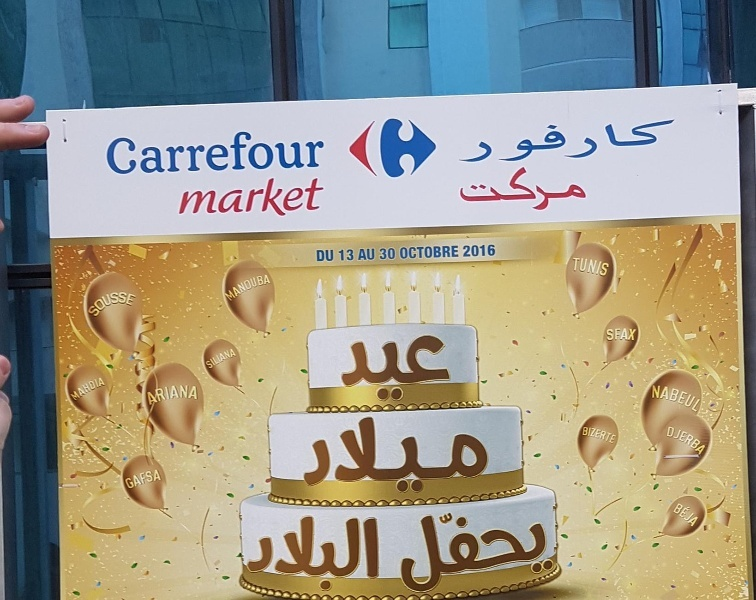text: (401, 512, 416, 598), (417, 512, 432, 598), (433, 512, 448, 598), (449, 512, 464, 598), (465, 512, 480, 598), (481, 512, 496, 598), (497, 512, 512, 598), (513, 512, 528, 598), (529, 512, 544, 598), (545, 512, 560, 598), (257, 513, 272, 597), (273, 513, 288, 597), (289, 513, 304, 597), (305, 513, 320, 597), (321, 513, 336, 597), (337, 513, 352, 597), (353, 513, 368, 597), (321, 412, 336, 495), (337, 412, 352, 495), (353, 412, 368, 495), (369, 412, 384, 495), (385, 412, 400, 495), (401, 412, 416, 495), (417, 412, 432, 495), (433, 412, 448, 495), (449, 412, 464, 495), (465, 412, 480, 495), (369, 513, 382, 597), (307, 412, 320, 495), (353, 334, 368, 403), (369, 334, 384, 403), (385, 334, 400, 403), (401, 334, 416, 403), (417, 334, 432, 403), (433, 334, 448, 403), (244, 513, 256, 597), (481, 412, 493, 495), (340, 334, 352, 403), (465, 116, 480, 163), (481, 116, 496, 163), (497, 116, 512, 163), (513, 116, 528, 163), (529, 116, 544, 163), (545, 116, 560, 163), (561, 116, 576, 163), (577, 116, 592, 163), (593, 116, 608, 163), (609, 116, 624, 163), (625, 116, 640, 163), (641, 116, 656, 163), (657, 116, 672, 163), (465, 165, 480, 212), (481, 165, 496, 212), (497, 165, 512, 212), (513, 165, 528, 212), (529, 165, 544, 212), (545, 165, 560, 212), (561, 165, 576, 212), (113, 131, 128, 177), (129, 131, 144, 177), (145, 131, 160, 177), (161, 131, 176, 177), (177, 131, 192, 177), (193, 131, 208, 177), (209, 131, 224, 177), (225, 131, 240, 177), (241, 131, 256, 177), (257, 131, 272, 177), (273, 131, 288, 177), (289, 131, 304, 177), (305, 131, 320, 177), (193, 175, 208, 219), (209, 175, 224, 219), (225, 175, 240, 219), (241, 175, 256, 219), (257, 175, 272, 219), (273, 175, 288, 219), (289, 175, 304, 219), (305, 175, 320, 219), (577, 165, 589, 212), (81, 283, 96, 320), (97, 283, 112, 320), (113, 283, 128, 320), (673, 422, 688, 457), (689, 422, 704, 457), (225, 270, 240, 305), (241, 270, 256, 305), (257, 270, 272, 305), (657, 383, 672, 413), (673, 383, 688, 413), (182, 175, 192, 219), (145, 381, 160, 410), (161, 381, 176, 410), (177, 381, 192, 410), (689, 383, 703, 413), (81, 375, 96, 403), (209, 346, 224, 373), (225, 346, 240, 373), (577, 255, 592, 281), (593, 255, 608, 281), (689, 502, 703, 529), (129, 466, 144, 491), (145, 466, 160, 491), (67, 375, 80, 403), (457, 116, 464, 163), (105, 131, 112, 177), (97, 375, 108, 403), (593, 425, 608, 445), (129, 283, 137, 320), (678, 502, 688, 529), (401, 245, 416, 261), (417, 245, 432, 261), (433, 245, 448, 261), (481, 244, 497, 259), (321, 131, 326, 177), (465, 244, 480, 259), (609, 328, 624, 343), (321, 175, 326, 219), (582, 425, 592, 445), (321, 249, 335, 263), (339, 249, 352, 264), (625, 328, 638, 343), (385, 246, 397, 261), (609, 425, 618, 445), (650, 383, 656, 413), (398, 512, 400, 598), (449, 245, 459, 261), (357, 247, 368, 261), (122, 466, 128, 491), (193, 381, 198, 410), (673, 116, 676, 163), (461, 165, 464, 212), (668, 422, 672, 457), (705, 422, 709, 457), (77, 283, 80, 320), (204, 346, 208, 373), (377, 246, 384, 261), (572, 255, 576, 281), (369, 247, 375, 261), (353, 249, 358, 264), (459, 244, 464, 259), (161, 466, 164, 491), (222, 270, 224, 305), (449, 334, 450, 403), (142, 381, 144, 410), (317, 249, 320, 263), (273, 270, 274, 305), (609, 255, 610, 281), (399, 245, 400, 261), (607, 328, 608, 343)
